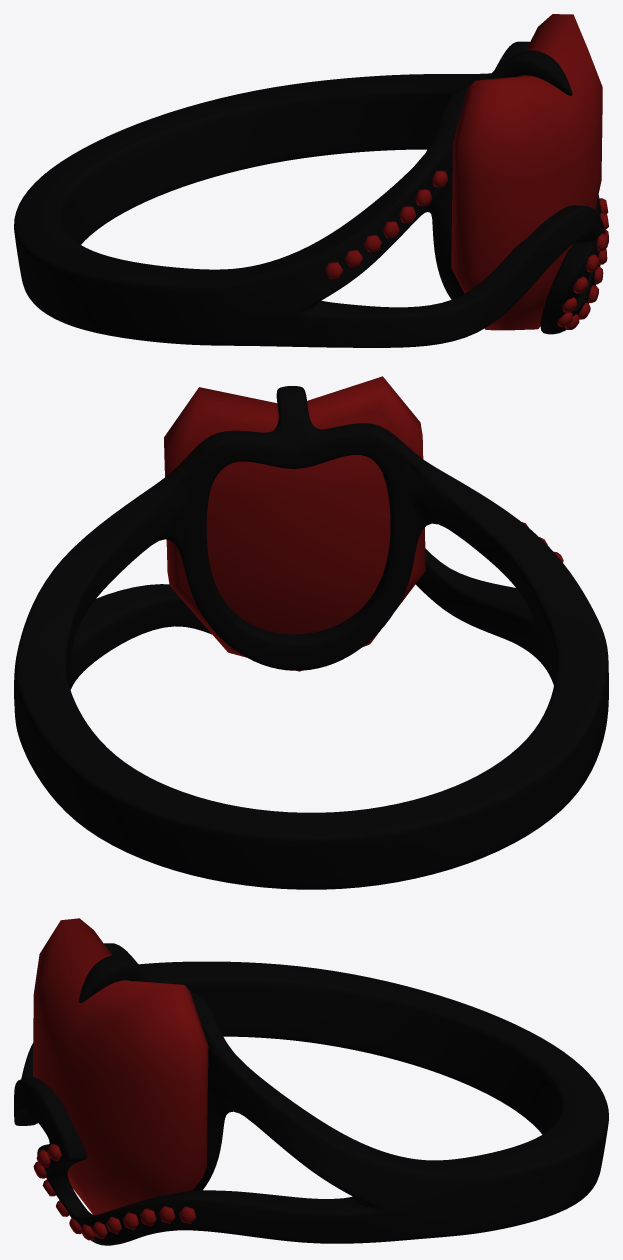
File: gold_ring_for_female.glb
The picture shows the model from 3 angles, top to bottom: view 1: azimuth 30°, elevation 25°; view 2: azimuth 150°, elevation 25°; view 3: azimuth 270°, elevation 25°; orthographic projection.
Visible parts, largest first — view 1: Object01_0, Object01_1; view 2: Object01_0, Object01_1; view 3: Object01_0, Object01_1.
Part boxes in pixels (left/top/right/bottom): Object01_0: left=14, top=41, right=605, bottom=347; Object01_1: left=325, top=14, right=608, bottom=330; Object01_0: left=14, top=386, right=608, bottom=889; Object01_1: left=164, top=376, right=563, bottom=671; Object01_0: left=14, top=943, right=608, bottom=1245; Object01_1: left=33, top=918, right=208, bottom=1240.
Bounding box in the file's own units: 1.25 × 0.6557 × 1.26.
